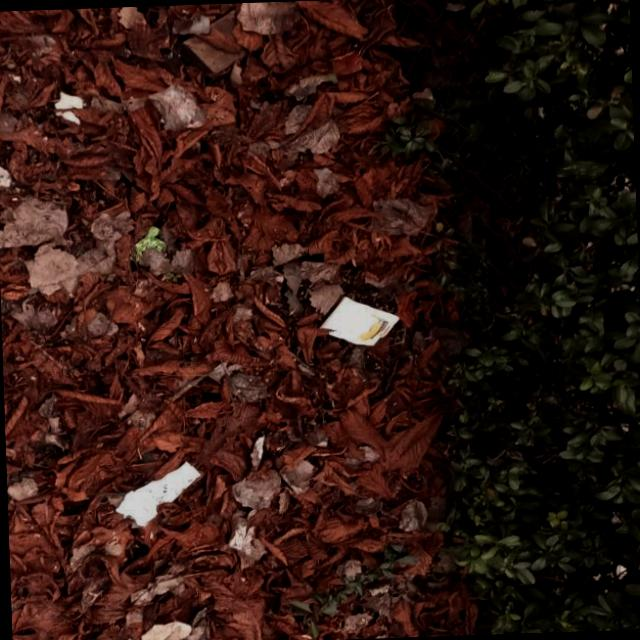Paper: (111, 459, 201, 526), (314, 292, 402, 348), (146, 82, 206, 132), (51, 89, 86, 126), (139, 619, 192, 640), (0, 162, 13, 189)
Plastic: (132, 225, 166, 262)
